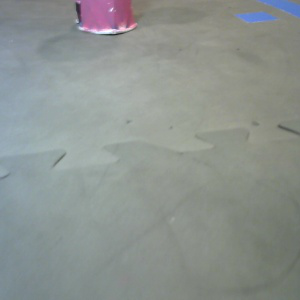middle: (75, 1, 138, 36)
